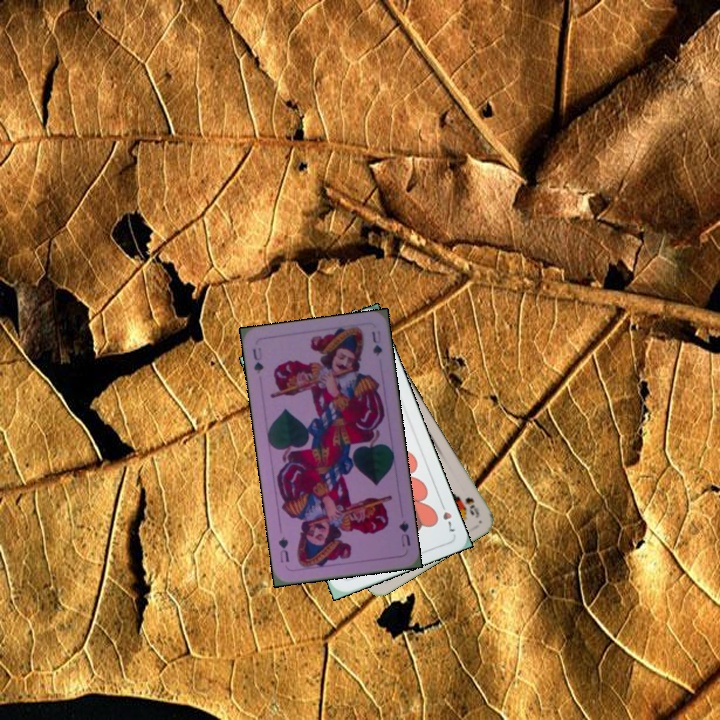GU: (395, 516, 413, 549), (249, 343, 266, 376)
H7: (436, 497, 457, 535)
SO: (461, 493, 482, 520)
